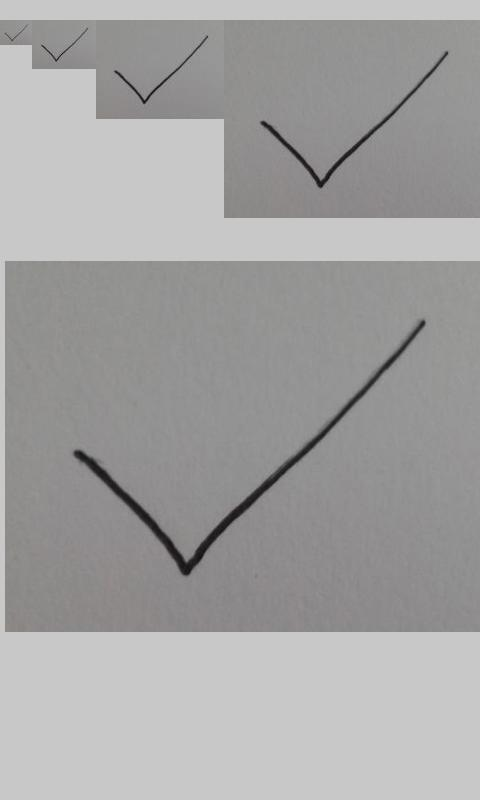check_box: (72, 320, 426, 574), (261, 52, 448, 187), (114, 36, 208, 104), (41, 28, 88, 62), (4, 25, 27, 42)
